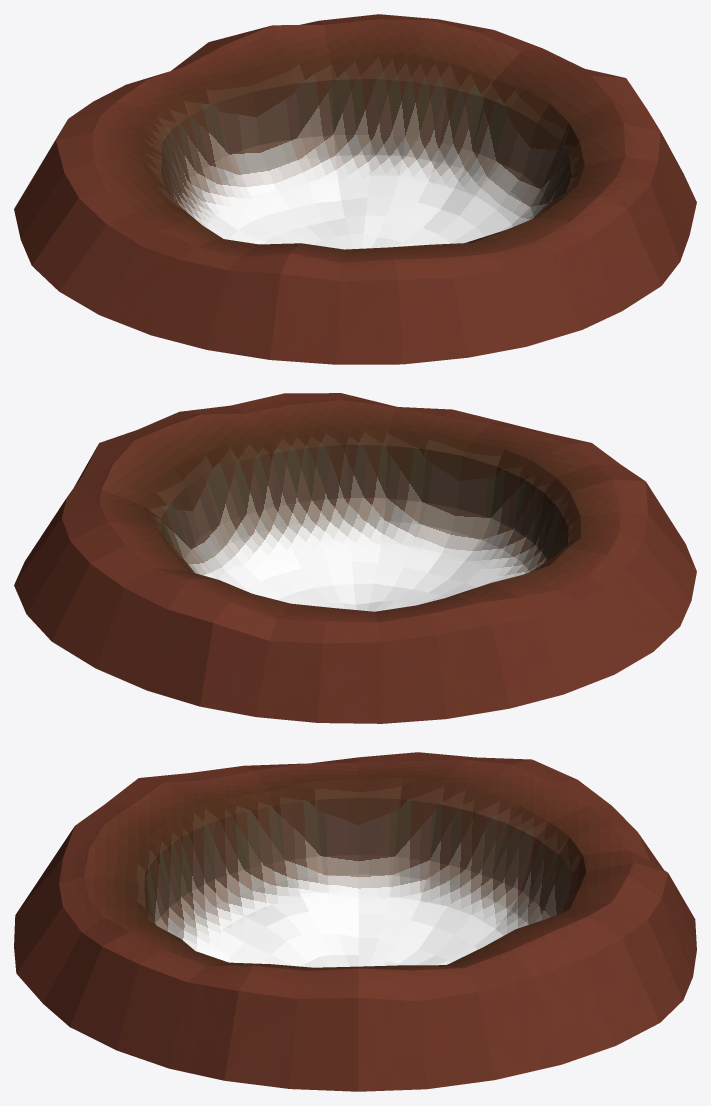
The model's file is krecVupa.glb.
3 renders of one model, top to bottom at view 1: azimuth 30°, elevation 25°; view 2: azimuth 150°, elevation 25°; view 3: azimuth 270°, elevation 25°, orthographic. The views are drawn at different scales.
Parts seen in each view (by area): view 1: Sphere; view 2: Sphere; view 3: Sphere.
Boxes of the visible parts, bbox=[...] form: Sphere: bbox=[14, 14, 696, 364]; Sphere: bbox=[14, 393, 696, 723]; Sphere: bbox=[14, 752, 696, 1091].
Size of the model in its own units: 3.46 by 0.8021 by 3.32.
1 material, 1 textured.
